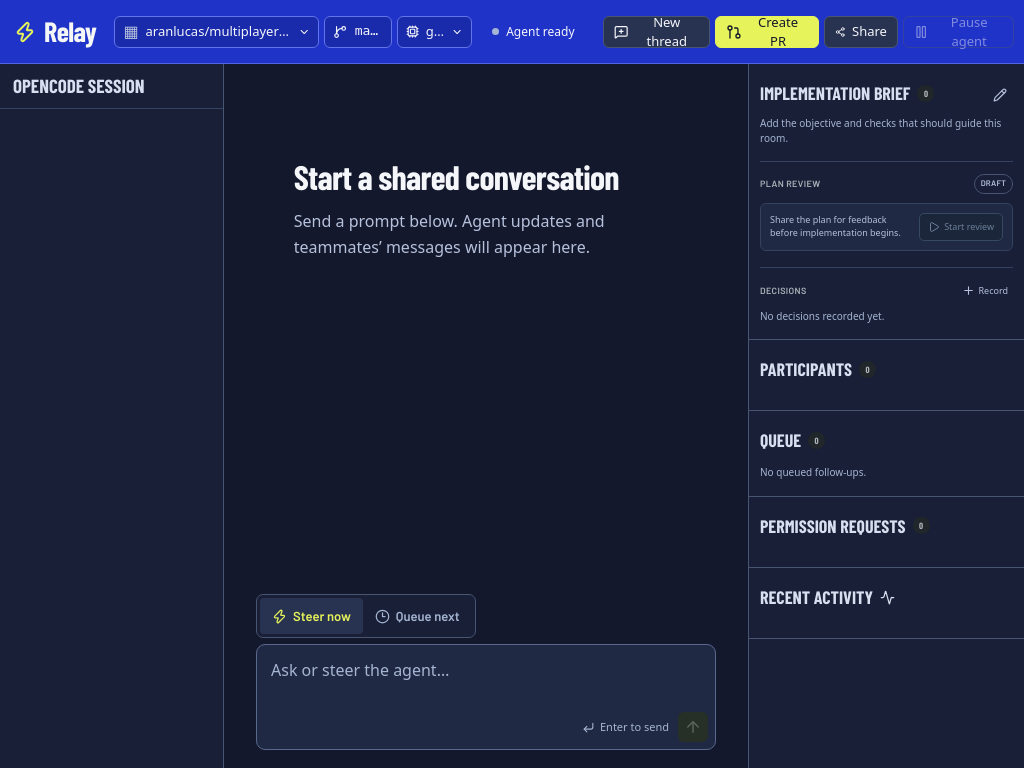
Test case: Unsent room drafts › keeps typing in memory and explains recovery when draft storage fails
The image size is (1024, 768).
Type "Still typing" into the text box labelled "Ask or steer the agent" at (486, 678), box [257,645,715,710]
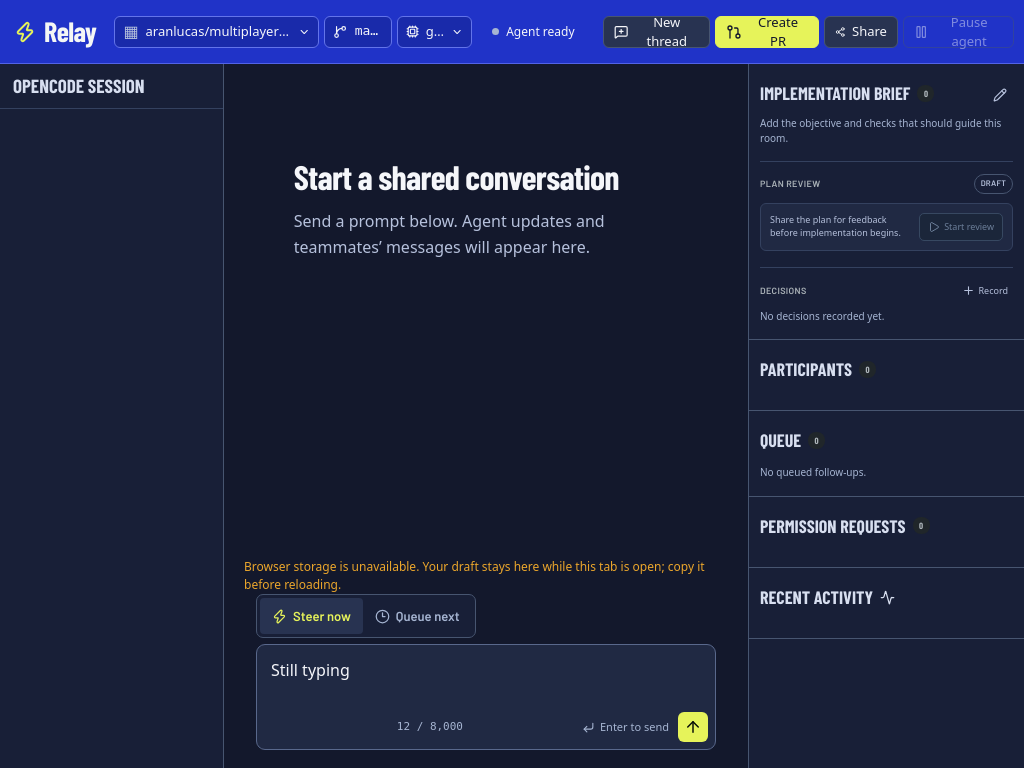
Expected: the message shows "copy it before reloading", [244,558,705,593]
